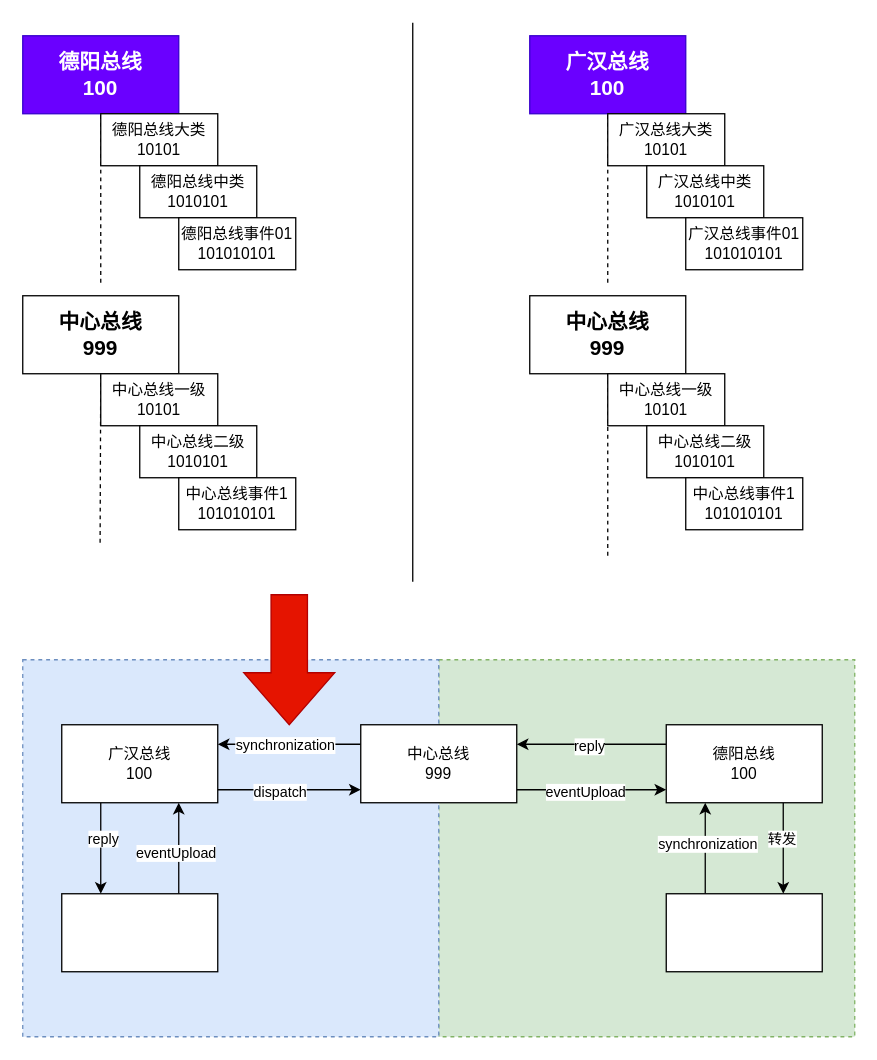
The diagram is 877 pixels wide and 1060 high, and some of its shapes have lost their labels. The box of each missing label's shape, as (x1, y1, x2, y2) in pixels:
广汉12345: (60, 892, 218, 972)
德阳12345: (665, 892, 822, 972)
问 题 点: (242, 593, 335, 725)
